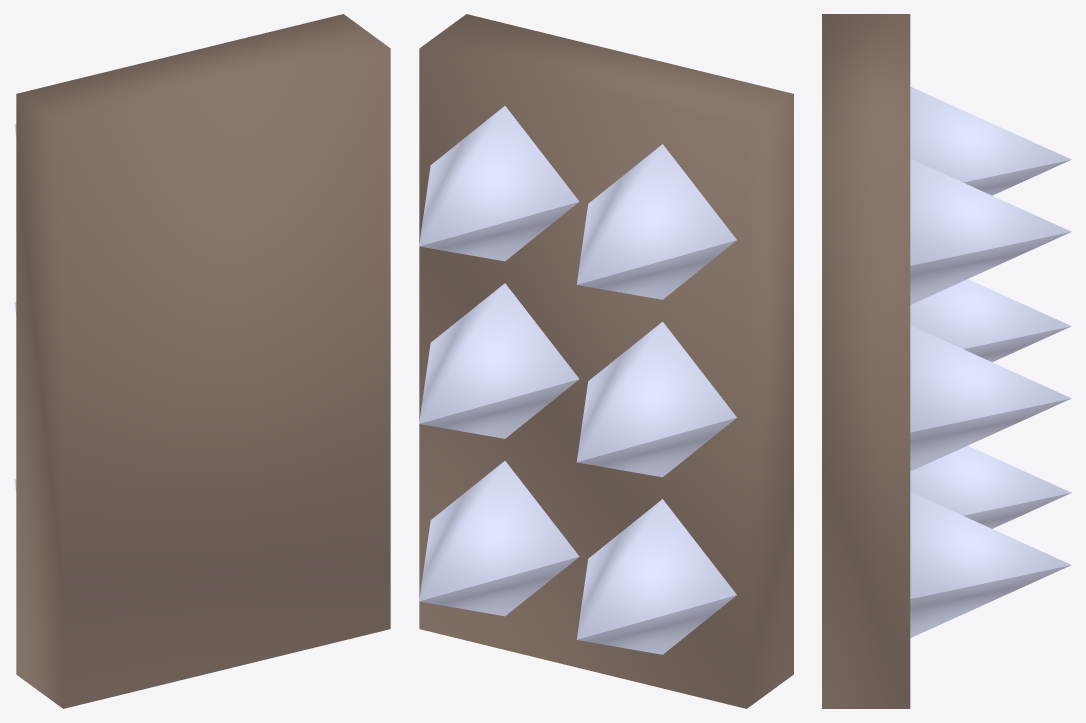
Rendered from spike trap.glb.
3 views of the same model, side by side, from view 1: azimuth 30°, elevation 25°; view 2: azimuth 150°, elevation 25°; view 3: azimuth 270°, elevation 25° (orthographic). The views are drawn at different scales.
Parts seen in each view (by area): view 1: spike; view 2: spike; view 3: spike.
Part boxes in pixels (x1,y1,x2,y2): spike: [14, 14, 390, 708]; spike: [419, 14, 793, 708]; spike: [822, 14, 1071, 708].
Bounding box in the file's own units: 1.74 × 2.94 × 1.22.
1 material, 1 textured.
